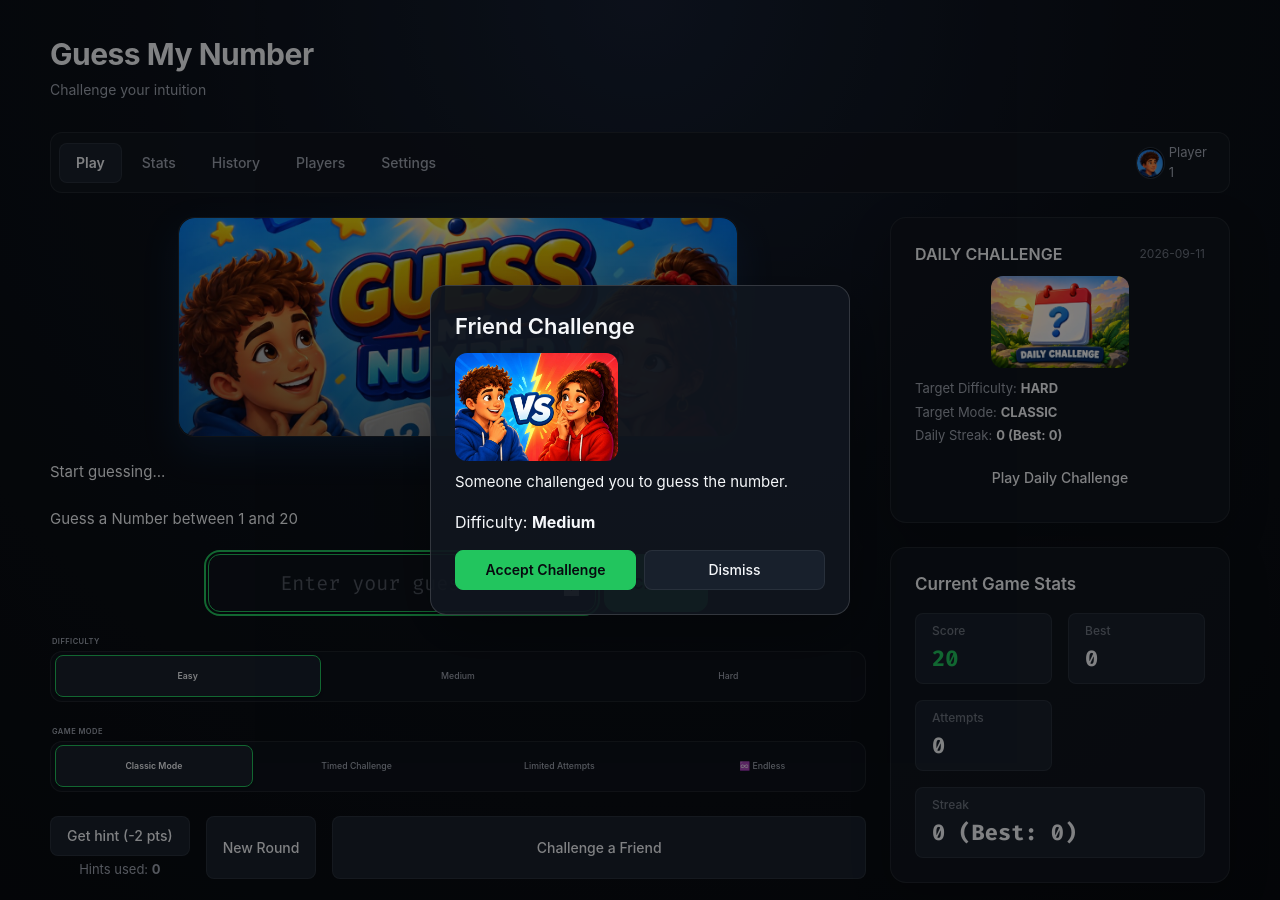
Test: Phase 19 challenge UI and integration › renders and accepts a valid invitation, cleaning the URL
Expected: the dialog "Friend Challenge" shows "Difficulty: Medium", [430, 285, 850, 615]
What coordinates should you click on to do the following:
click the button "Accept Challenge"
I would click on:
 (546, 570)
Its box is [455, 550, 636, 590].
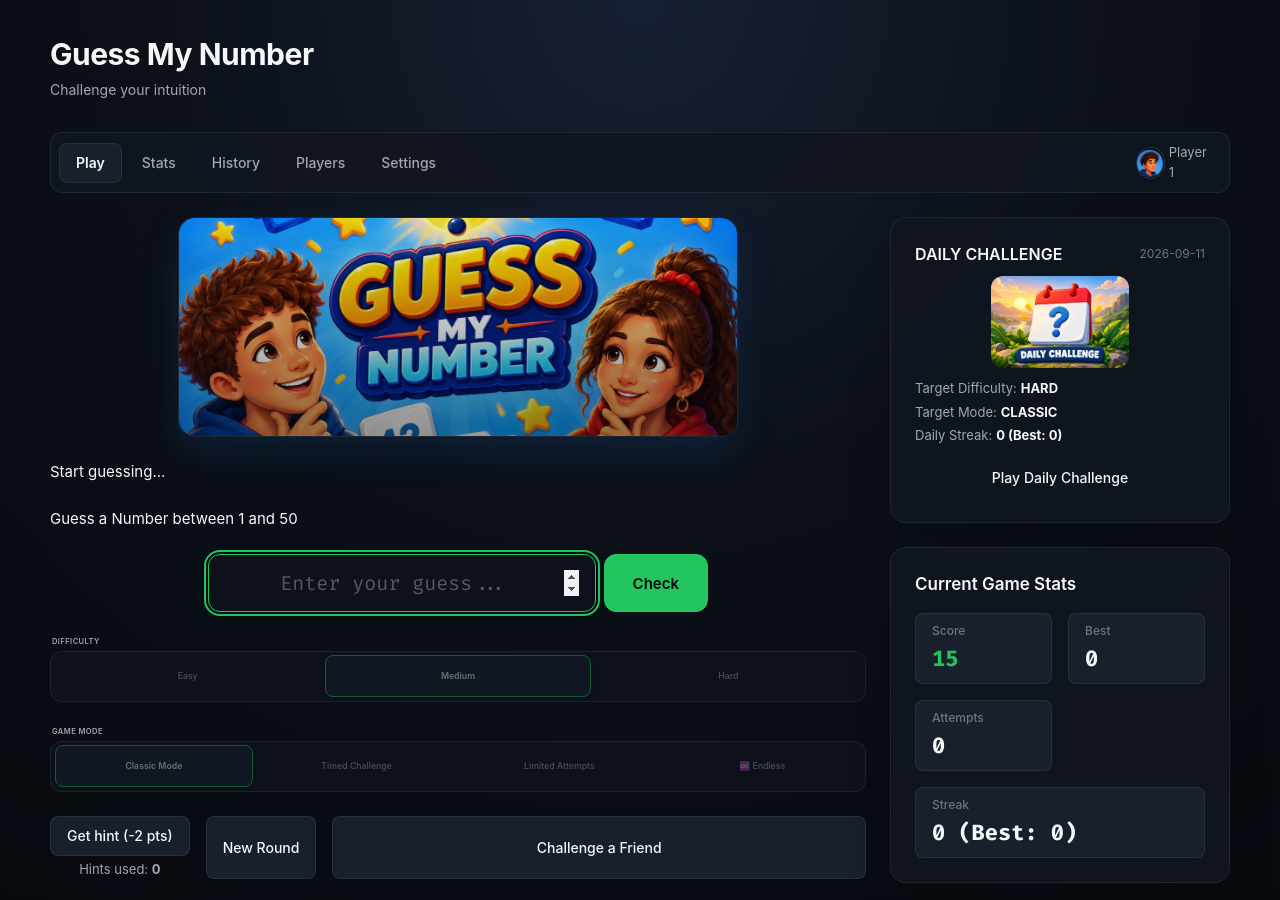
Result: the heading "Friend Challenge" is gone
